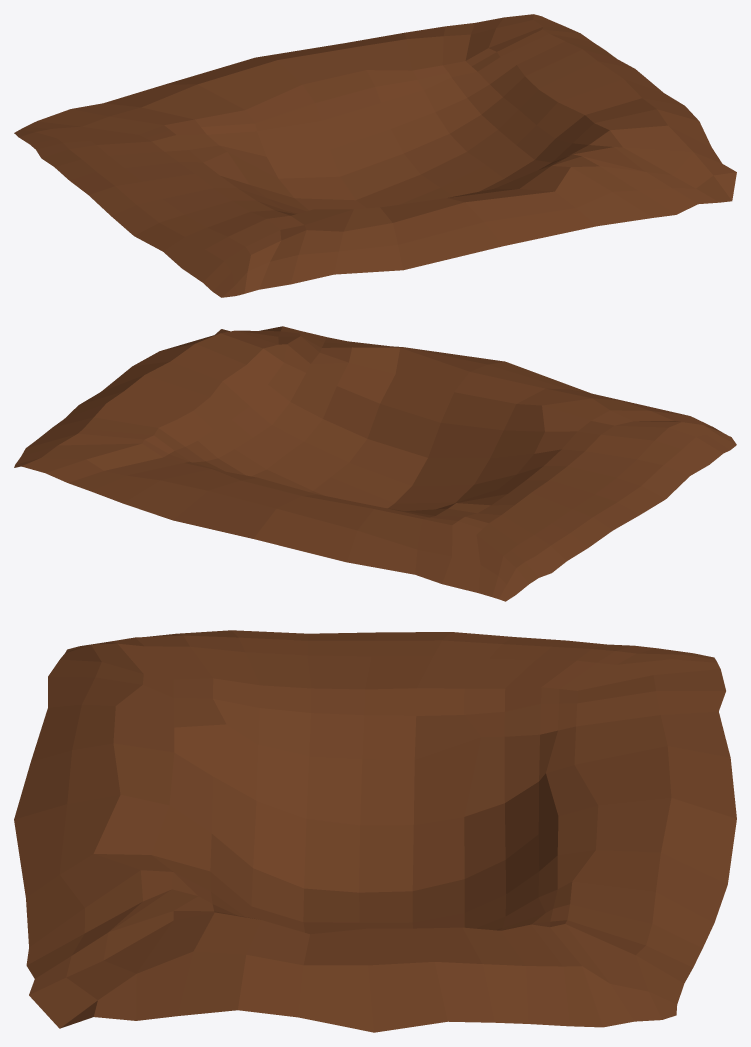
File: Ground.fbx
3 renders of one model, top to bottom at view 1: azimuth 30°, elevation 25°; view 2: azimuth 150°, elevation 25°; view 3: azimuth 270°, elevation 25°, orthographic. The views are drawn at different scales.
Visible parts, largest first — view 1: Ground; view 2: Ground; view 3: Ground.
Boxes of the visible parts, bbox=[...] form: Ground: bbox=[14, 14, 736, 297]; Ground: bbox=[14, 326, 736, 601]; Ground: bbox=[14, 630, 736, 1032].
Bounding box in the file's own units: 2313 × 304 × 1829.
